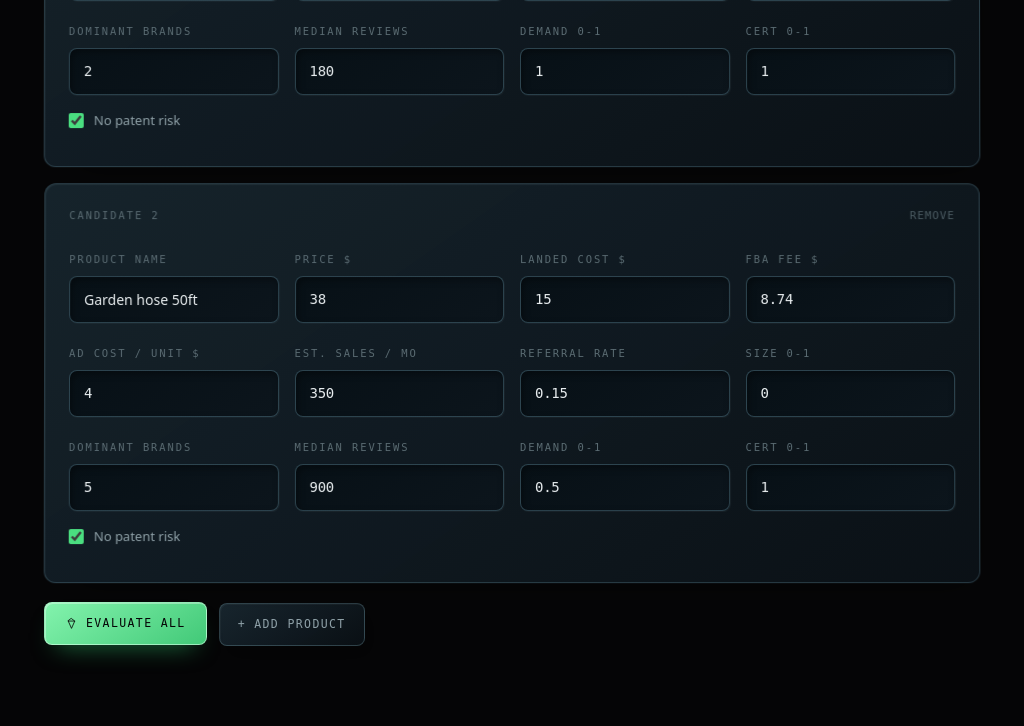
scores through the public endpoint and only then invites
(page scrolled)
Click the button "EVALUATE ALL" at (125, 624), box x1=44 y1=602 x2=207 y2=645
(page scrolled)
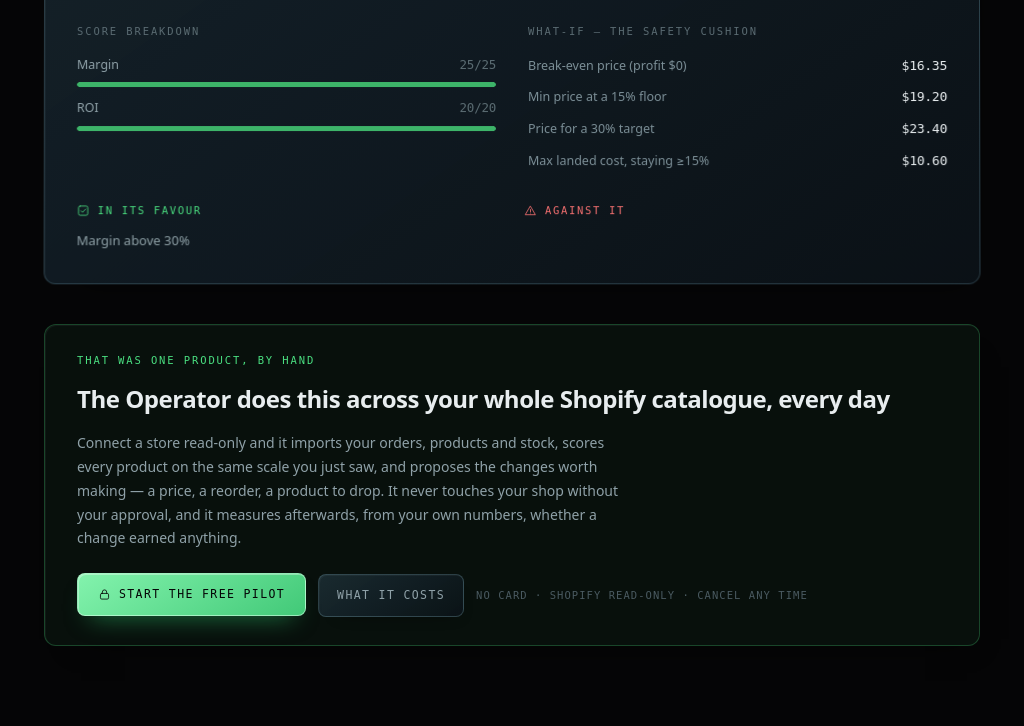
Result: the element with test id "public-invitation" is shown at x1=44 y1=324 x2=980 y2=646
